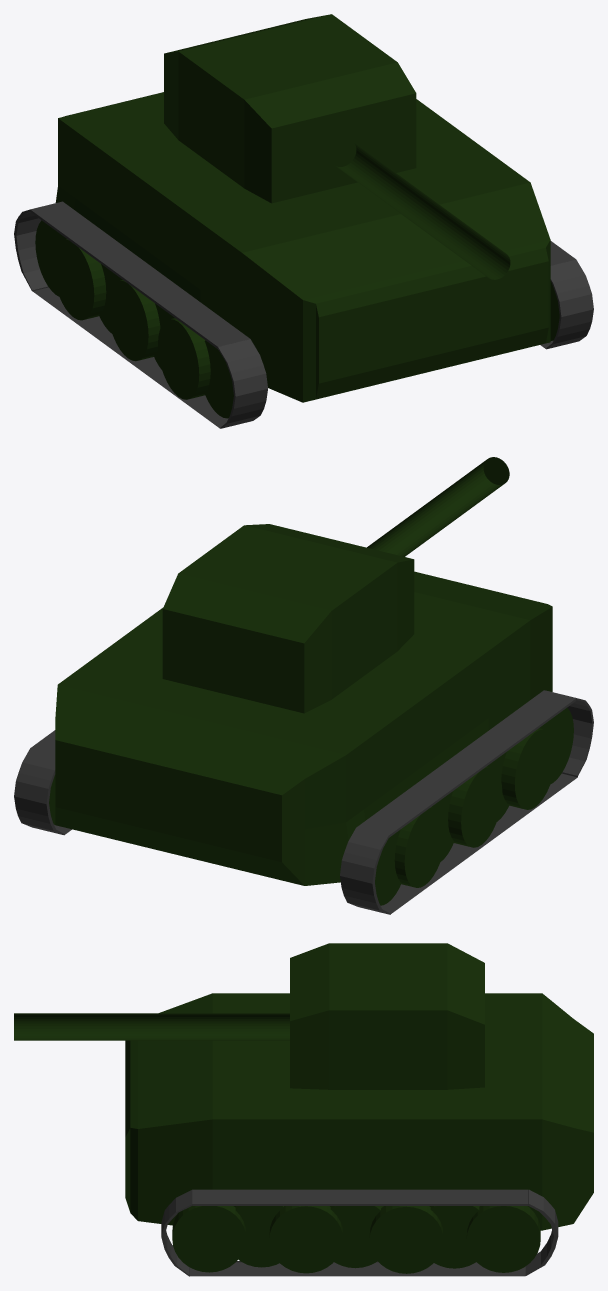
Rendered from tank.obj.
The picture shows the model from 3 angles, top to bottom: view 1: azimuth 30°, elevation 25°; view 2: azimuth 150°, elevation 25°; view 3: azimuth 270°, elevation 25°; orthographic projection. The views are drawn at different scales.
Visible parts, largest first — view 1: Cube, Cube.001, Plane.001, Cylinder, Circle.005, Plane.005, Circle.003, Circle.001, Circle.006, Circle; view 2: Cube, Cube.001, Plane.001, Cylinder, Circle.005, Circle.003, Plane.005, Circle.001, Circle, Circle.006; view 3: Cube, Cube.001, Plane.005, Cylinder, Circle.009, Circle.007, Circle.011, Circle.013, Circle.010, Circle.008, Circle.012.
Part boxes in pixels (x1,y1,x2,y2): Cube: (55,92,550,402); Cube.001: (164,14,416,203); Plane.001: (14,201,267,428); Cylinder: (336,142,510,279); Circle.005: (158,318,210,399); Plane.005: (540,241,593,349); Circle.003: (107,280,160,361); Circle.001: (53,239,106,320); Circle.006: (204,340,233,418); Circle: (35,220,66,296); Cube: (55,571,552,885); Cube.001: (162,524,414,713); Plane.001: (340,690,593,914); Cylinder: (367,457,509,556); Circle.005: (501,728,555,809); Circle.003: (448,766,502,847); Plane.005: (14,730,71,835); Circle.001: (394,807,445,887); Circle: (375,829,401,905); Circle.006: (539,708,573,783); Cube: (125,993,593,1230); Cube.001: (290,943,484,1089); Plane.005: (161,1189,558,1276); Cylinder: (14,1013,289,1040); Circle.009: (369,1206,443,1273); Circle.007: (466,1206,540,1272); Circle.011: (269,1206,343,1273); Circle.013: (172,1206,246,1272); Circle.010: (330,1206,383,1268); Circle.008: (429,1206,479,1268); Circle.012: (234,1206,283,1267).
Bounding box in the file's own units: 6.06 × 3.98 × 9.46.
